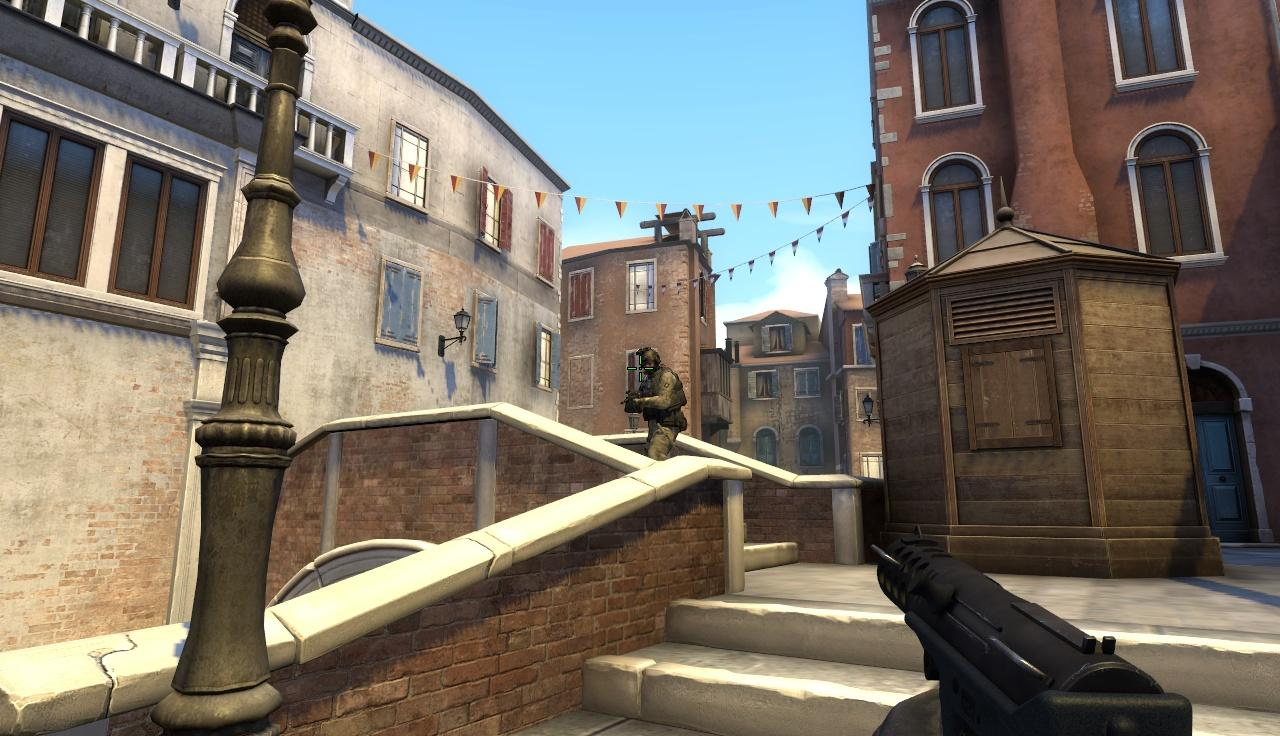ct: (635, 346, 685, 459)
cthead: (636, 348, 662, 373)
pistol: (860, 523, 1192, 736)
